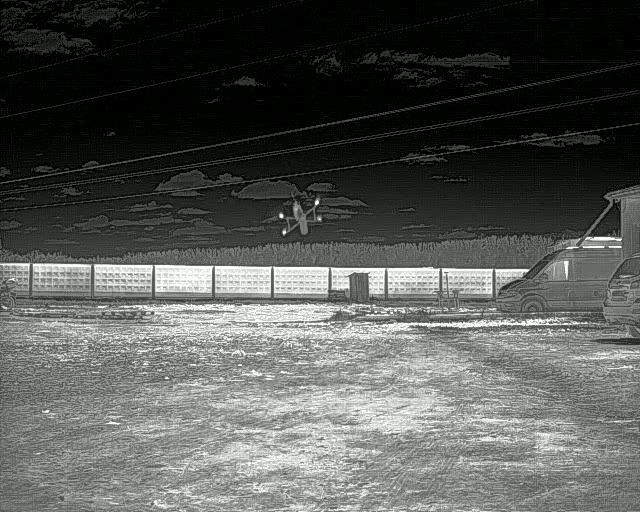drone-thermal: (276, 189, 329, 240)
